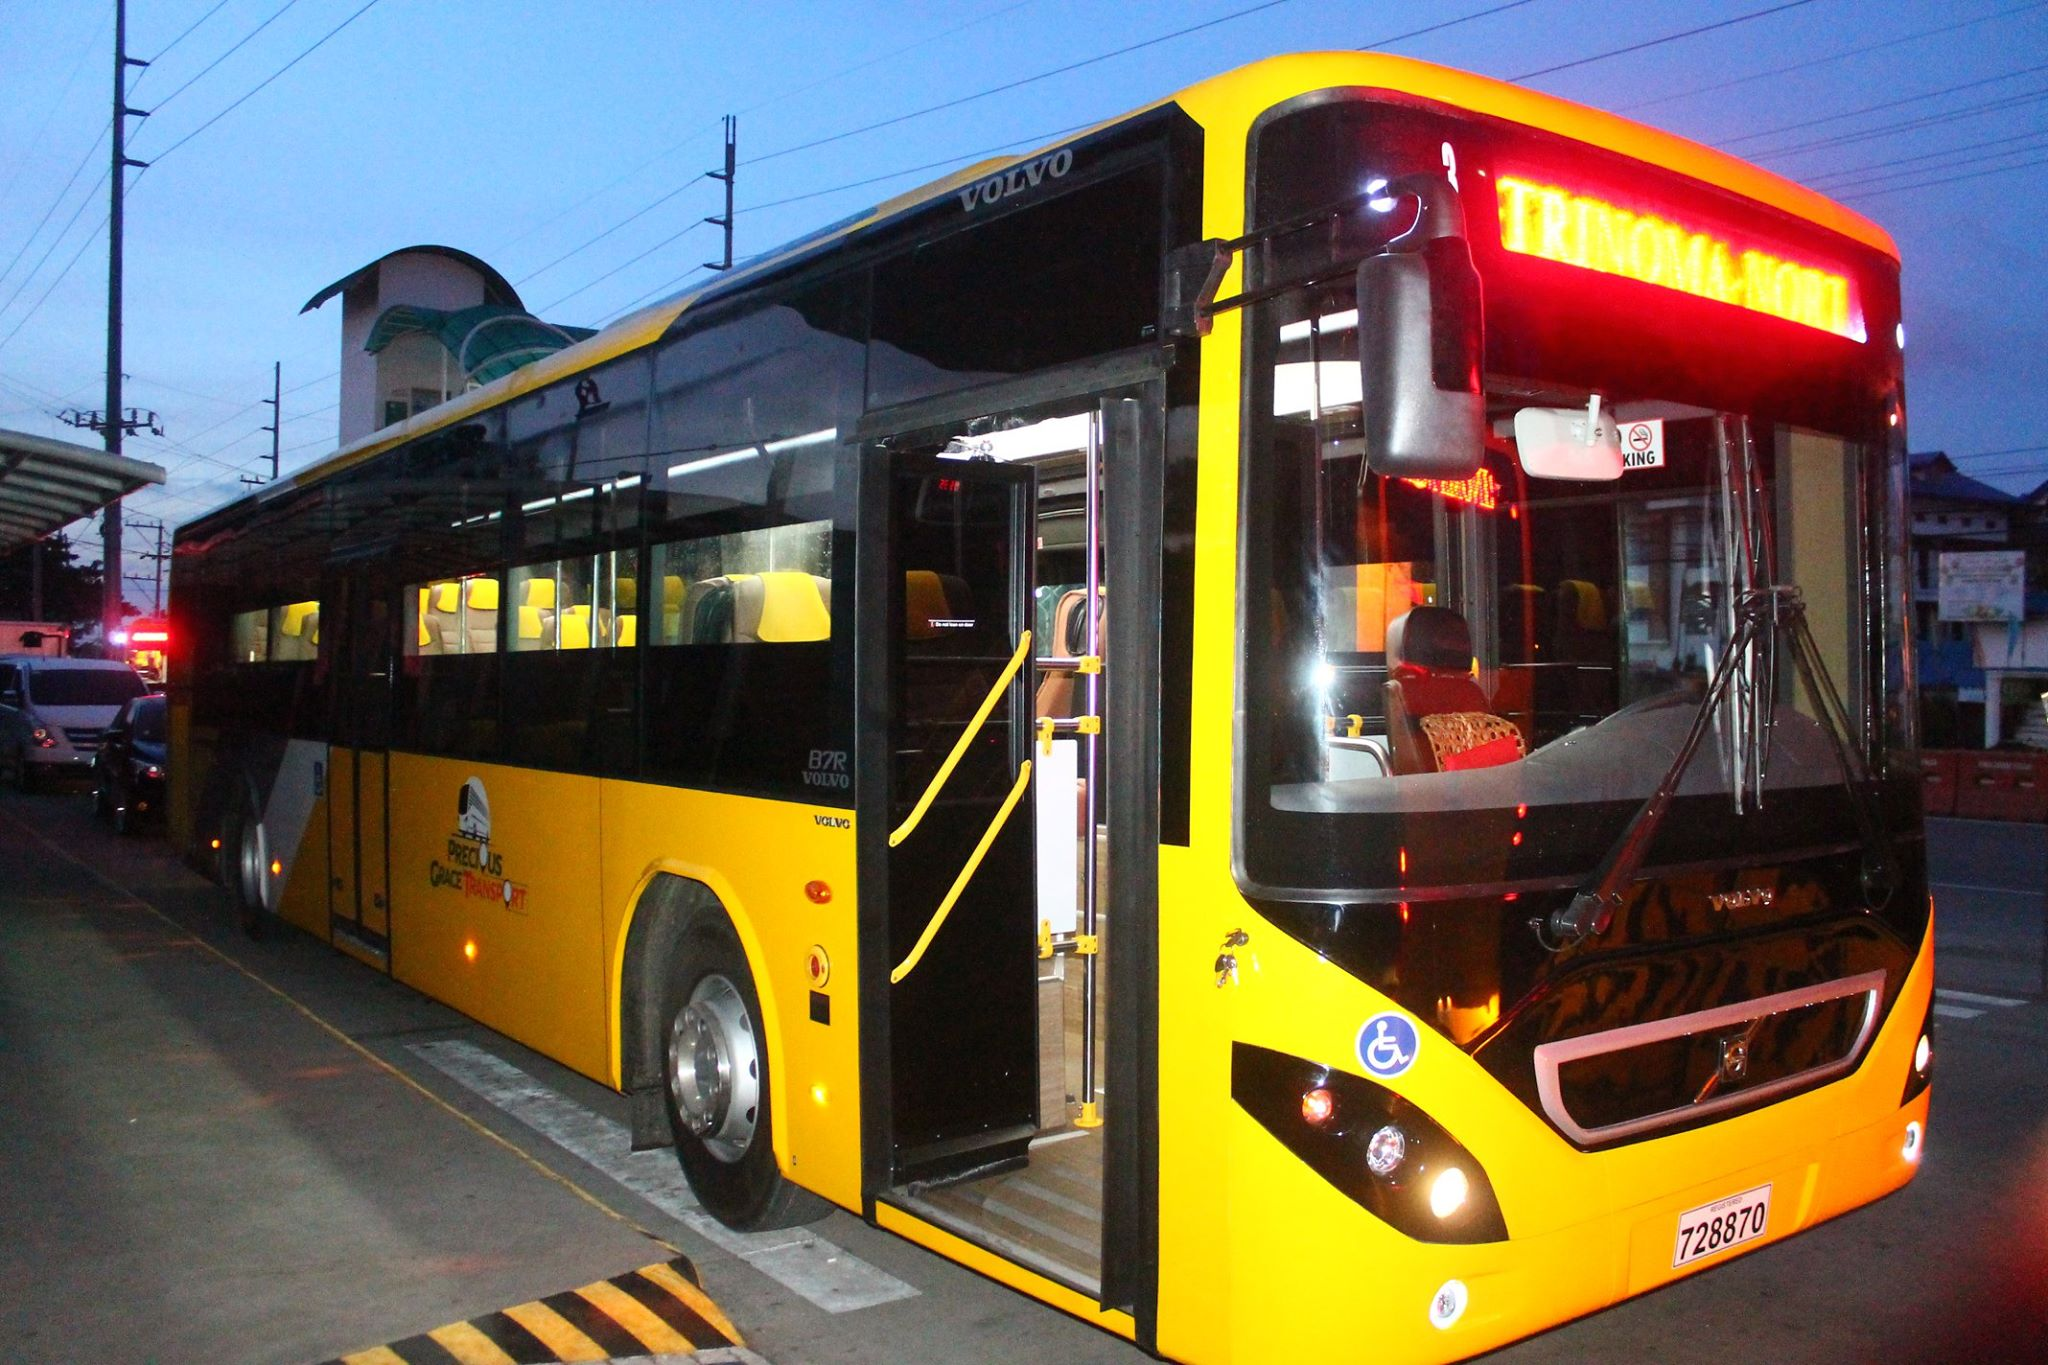bus: (166, 59, 1928, 1357)
car: (2, 651, 142, 775)
pole: (111, 6, 125, 451)
